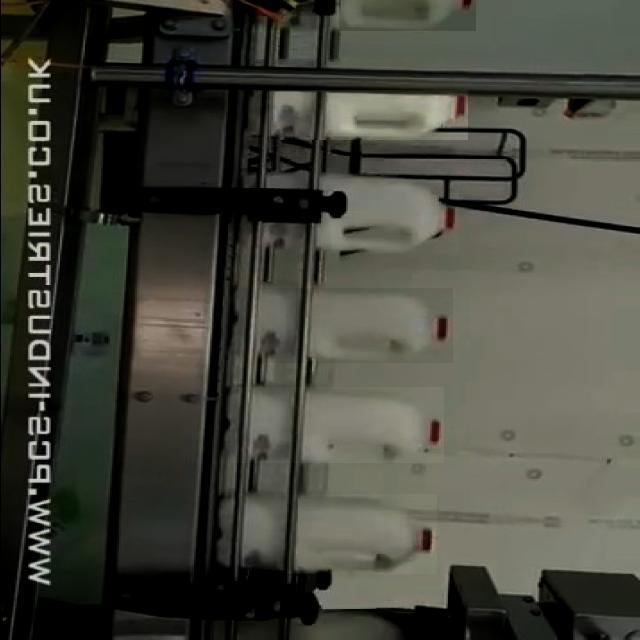milk: (214, 490, 446, 580), (255, 166, 465, 257), (240, 281, 463, 364), (222, 384, 448, 465), (291, 64, 476, 155)
